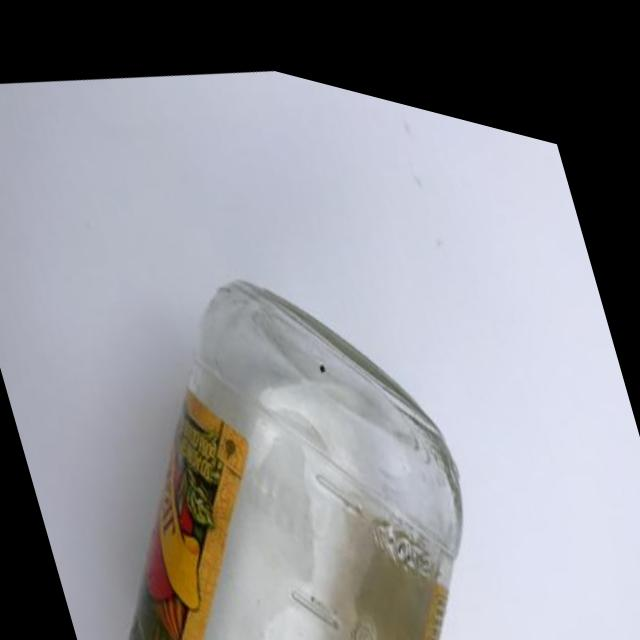glass: (0, 100, 563, 640)
